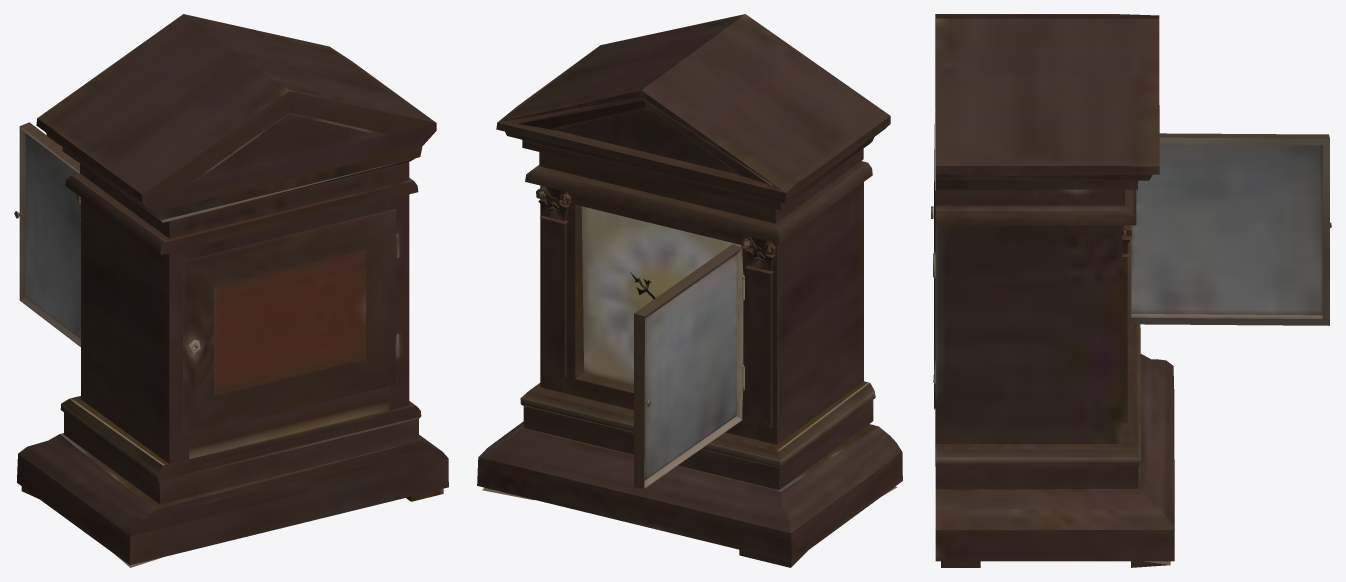
The model's file is clock-mantel-b.lod1.glb.
3 views of the same model, side by side, from view 1: azimuth 30°, elevation 25°; view 2: azimuth 150°, elevation 25°; view 3: azimuth 270°, elevation 25° (orthographic). The views are drawn at different scales.
Parts seen in each view (by area): view 1: clock-mantel-b; view 2: clock-mantel-b; view 3: clock-mantel-b.
Boxes of the visible parts, x1,y1,x2,y2 form: clock-mantel-b: (14,14,448,567); clock-mantel-b: (477,14,902,567); clock-mantel-b: (931,14,1331,567).
Bounding box in the file's own units: 0.2436 × 0.3227 × 0.2503.
Materials: 1 (1 with a texture image).
